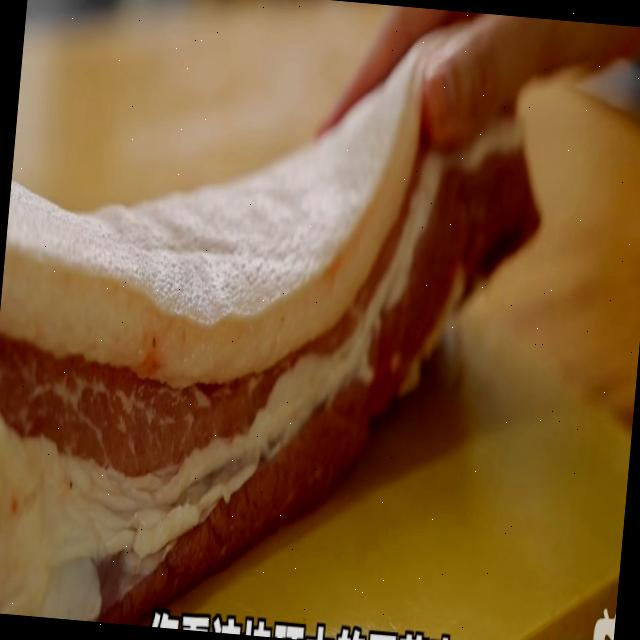meat: (0, 154, 476, 631)
